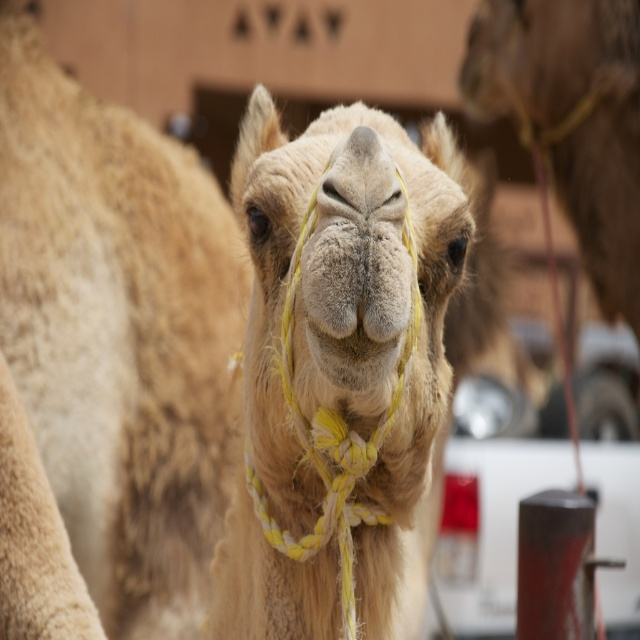Camel: (0, 0, 488, 639)
